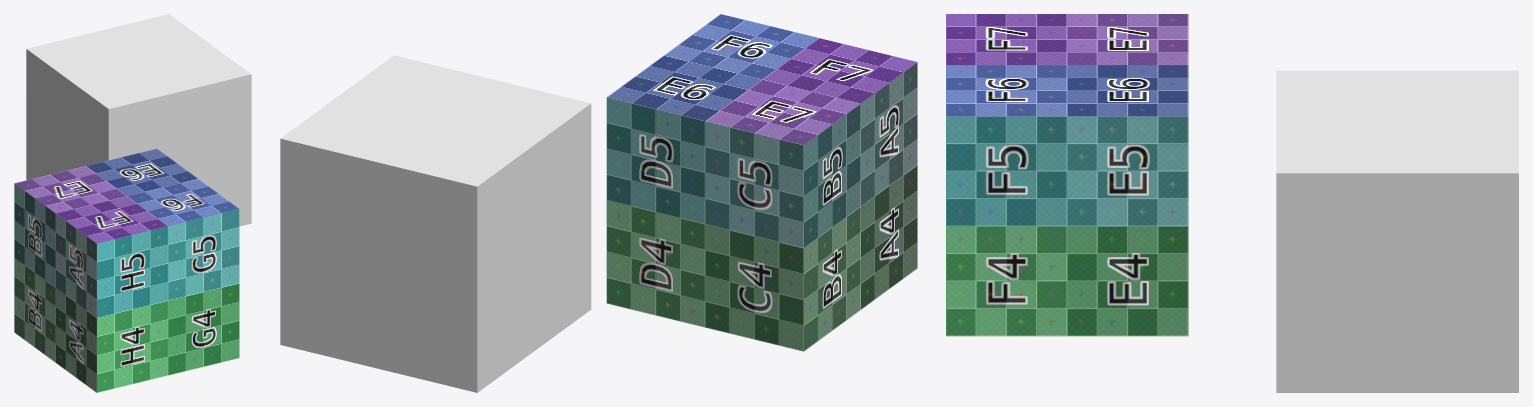
Rendered from 2cubes.glb.
The picture shows the model from 3 angles, left to right: view 1: azimuth 30°, elevation 25°; view 2: azimuth 150°, elevation 25°; view 3: azimuth 270°, elevation 25°; orthographic projection. The views are drawn at different scales.
Parts seen in each view (by area): view 1: Cube, Cube.001; view 2: Cube, Cube.001; view 3: Cube, Cube.001.
Boxes of the visible parts, left/top/right/bottom form: Cube: left=14, top=148, right=239, bottom=392; Cube.001: left=26, top=14, right=251, bottom=226; Cube: left=606, top=14, right=917, bottom=351; Cube.001: left=280, top=55, right=591, bottom=392; Cube: left=946, top=14, right=1188, bottom=336; Cube.001: left=1276, top=70, right=1518, bottom=392.
Bounding box in the file's own units: 3.74 × 2.29 × 4.73.
Materials: 2 (1 with a texture image).
